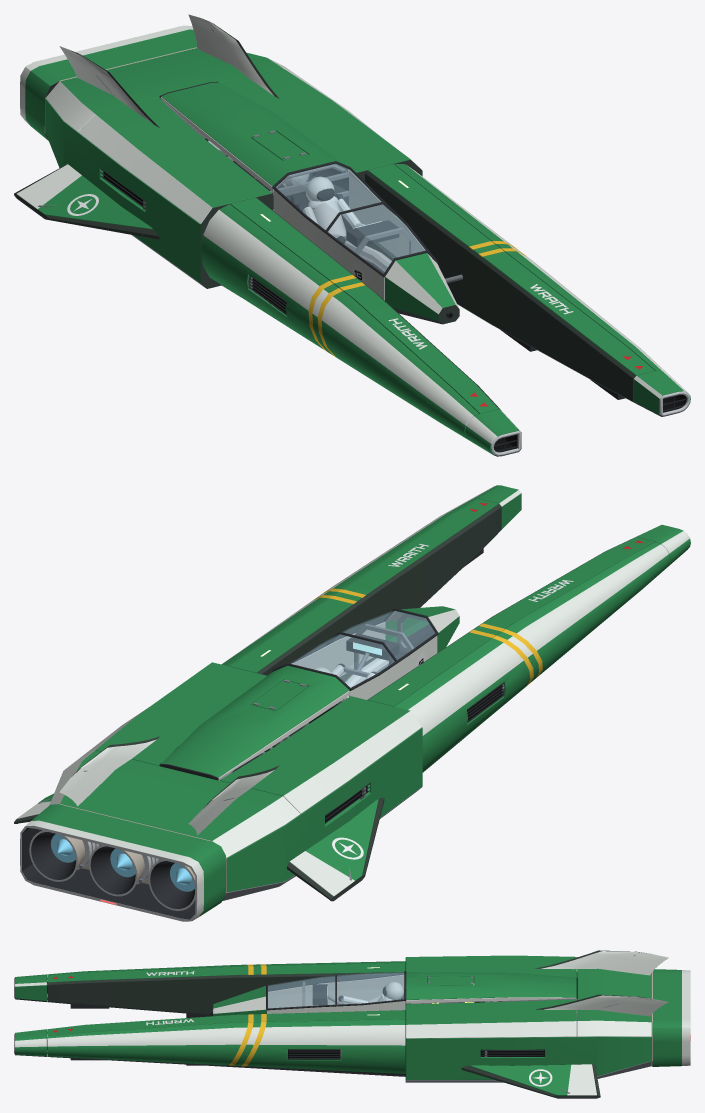
File: WRAITH_V2.fbx
3 renders of one model, top to bottom at view 1: azimuth 30°, elevation 25°; view 2: azimuth 150°, elevation 25°; view 3: azimuth 270°, elevation 25°, orthographic. The views are drawn at different scales.
Parts seen in each view (by area): view 1: Arm_Outer_L, Arm_Inner_R, Deck_L, Canopy, Body_Side_L, Deck_R, Spine_Top, Deck_Rear, Arm_Top_L, Arm_Top_R, Engine_Shroud, Wing_Top_L (+18 smaller); view 2: Arm_Outer_L, Deck_Rear, Deck_L, Engine_Shroud, Body_Side_L, Spine_Top, Arm_Inner_R, Deck_R, Arm_Top_L, Arm_Top_R, Canopy, Wing_Top_L (+18 smaller); view 3: Arm_Outer_R, Body_Side_R, Arm_Inner_L, Deck_R, Spine_Top, Deck_Rear, Canopy, Engine_Shroud, Shark_Fins, Arm_Top_L, Arm_Top_R, Deck_L (+17 smaller).
Boxes of the visible parts, bbox=[...] form: Arm_Outer_L: bbox=[201, 204, 478, 439]; Arm_Inner_R: bbox=[365, 171, 635, 402]; Deck_L: bbox=[78, 99, 271, 223]; Canopy: bbox=[276, 163, 425, 273]; Body_Side_L: bbox=[45, 99, 200, 283]; Deck_R: bbox=[222, 68, 421, 172]; Spine_Top: bbox=[161, 82, 348, 186]; Deck_Rear: bbox=[46, 48, 299, 132]; Arm_Top_L: bbox=[230, 197, 498, 413]; Arm_Top_R: bbox=[368, 164, 654, 375]; Engine_Shroud: bbox=[20, 25, 196, 140]; Wing_Top_L: bbox=[17, 164, 153, 229]; Arm_Outer_L: bbox=[394, 542, 670, 772]; Deck_Rear: bbox=[49, 750, 300, 857]; Deck_L: bbox=[220, 696, 421, 813]; Engine_Shroud: bbox=[20, 804, 225, 921]; Body_Side_L: bbox=[226, 728, 422, 892]; Spine_Top: bbox=[161, 665, 349, 777]; Arm_Inner_R: bbox=[257, 504, 501, 675]; Deck_R: bbox=[79, 662, 267, 765]; Arm_Top_L: bbox=[368, 537, 654, 706]; Arm_Top_R: bbox=[230, 499, 498, 672]; Canopy: bbox=[290, 610, 434, 687]; Wing_Top_L: bbox=[289, 784, 378, 896]; Arm_Outer_R: bbox=[47, 1019, 405, 1076]; Body_Side_R: bbox=[406, 1036, 651, 1079]; Arm_Inner_L: bbox=[47, 972, 403, 1015]; Deck_R: bbox=[406, 999, 576, 1038]; Spine_Top: bbox=[406, 972, 576, 1000]; Deck_Rear: bbox=[577, 957, 651, 1036]; Canopy: bbox=[268, 972, 404, 1007]; Engine_Shroud: bbox=[652, 969, 690, 1066]; Shark_Fins: bbox=[535, 950, 668, 1016]; Arm_Top_L: bbox=[47, 963, 405, 982]; Arm_Top_R: bbox=[47, 1010, 405, 1035]; Deck_L: bbox=[406, 955, 576, 977].
Size of the model in its own units: 240 by 80 by 632.
